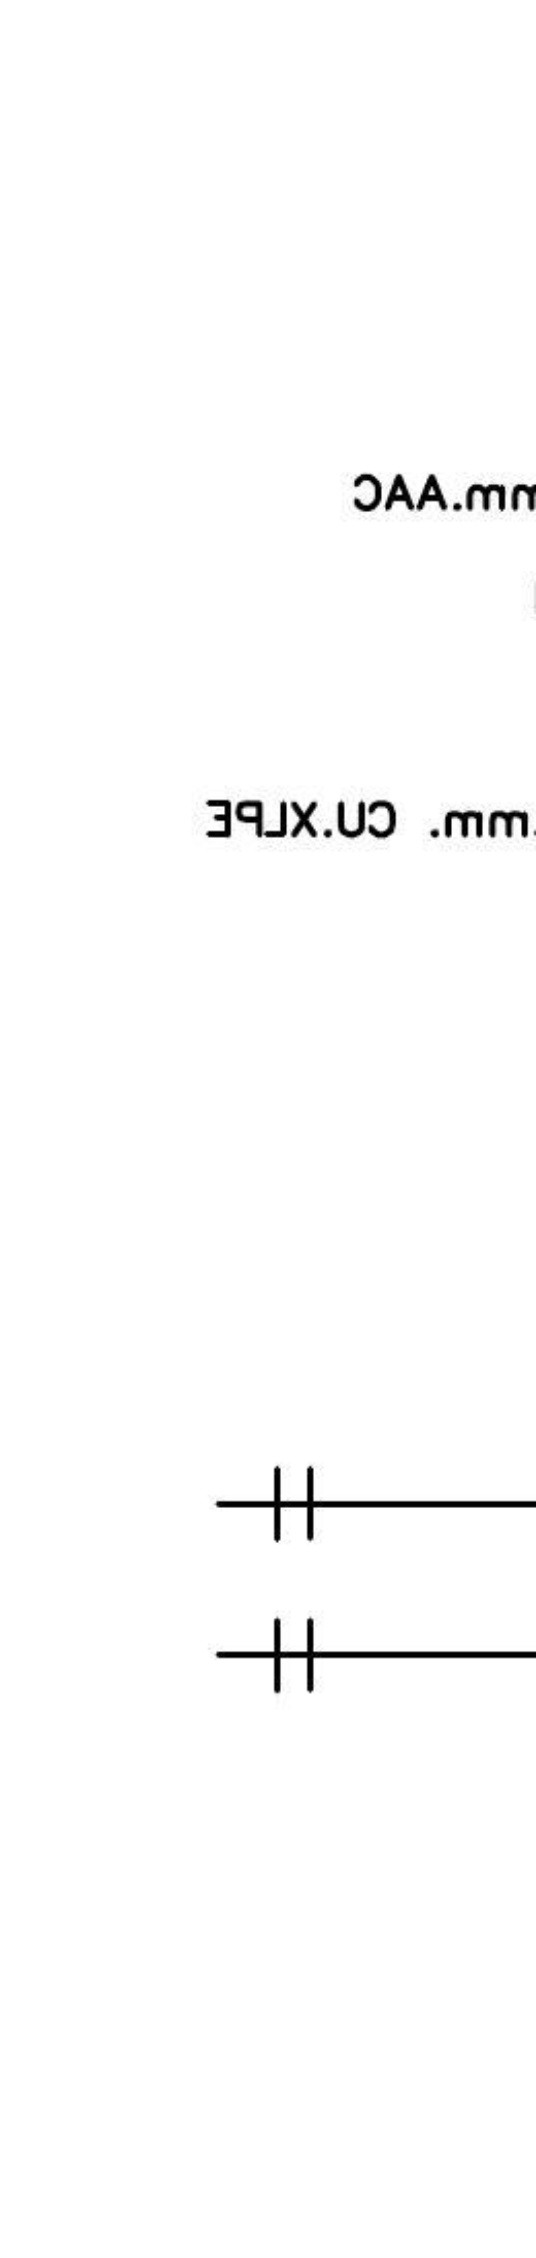115_buffer: (274, 1466, 314, 1542), (274, 1617, 314, 1693)
